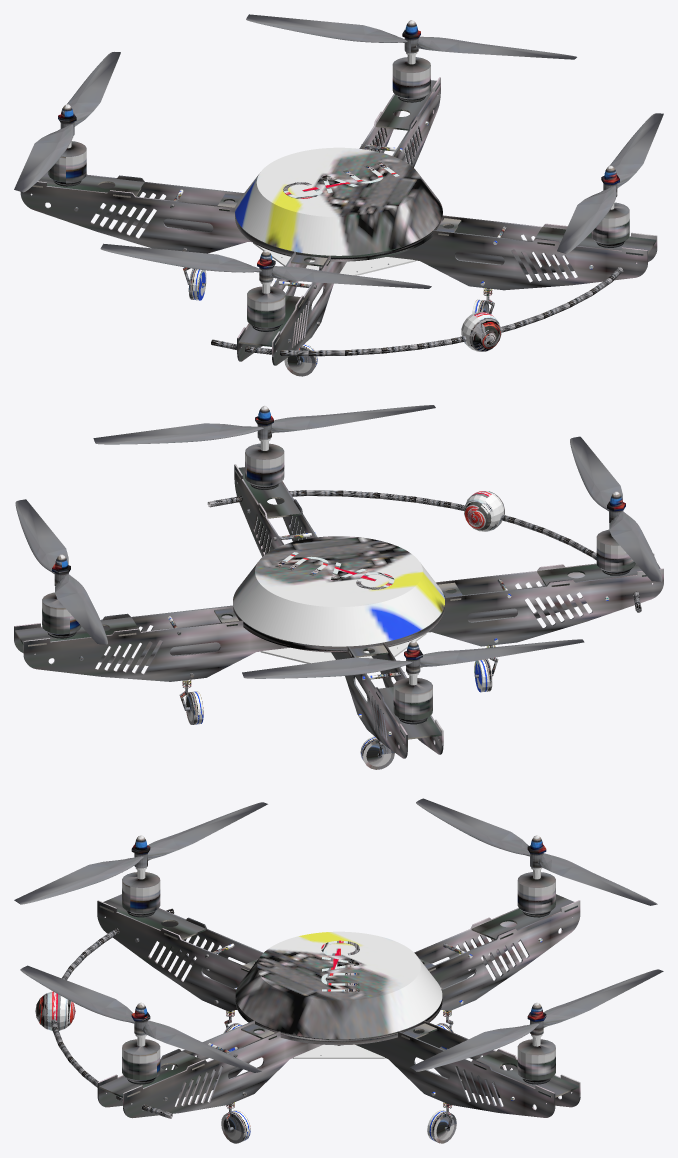
Rendered from gaui_330x.obj.
The picture shows the model from 3 angles, top to bottom: view 1: azimuth 30°, elevation 25°; view 2: azimuth 150°, elevation 25°; view 3: azimuth 270°, elevation 25°; orthographic projection. The views are drawn at different scales.
Visible parts, largest first — view 1: body, propFR, propBL, propFL, propBR; view 2: body, propFL, propBR, propFR, propBL; view 3: body, propFR, propBL, propBR, propFL.
Boxes of the visible parts, left/top/right/bottom form: body: left=20, top=20, right=657, bottom=376; propFR: left=100, top=243, right=431, bottom=288; propBL: left=246, top=14, right=576, bottom=59; propFL: left=557, top=113, right=663, bottom=253; propBR: left=14, top=52, right=120, bottom=192; body: left=14, top=405, right=663, bottom=769; propFL: left=93, top=405, right=435, bottom=444; propBR: left=242, top=639, right=584, bottom=678; propFR: left=570, top=436, right=662, bottom=581; propBL: left=15, top=499, right=107, bottom=644; body: left=35, top=835, right=580, bottom=1143; propFR: left=14, top=802, right=267, bottom=904; propBL: left=410, top=969, right=663, bottom=1071; propBR: left=416, top=798, right=657, bottom=905; propFL: left=20, top=965, right=261, bottom=1072.
Size of the model in its own units: 1.01 by 0.3047 by 1.01.
